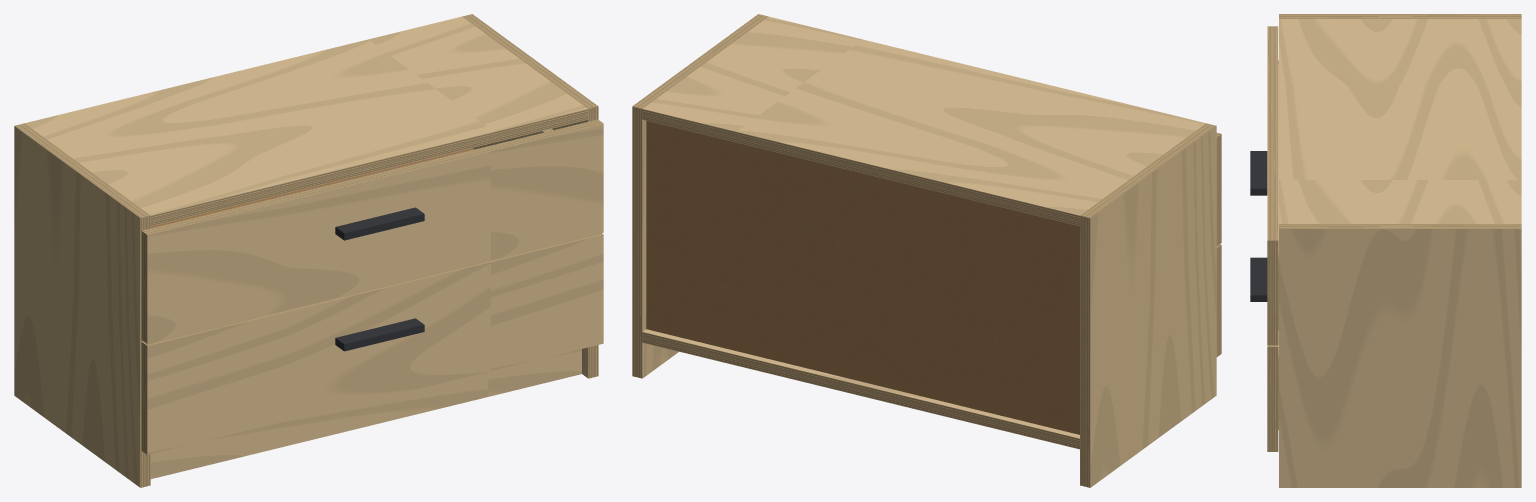
Rendered from SAB-KCT-std.glb.
3 views of the same model, side by side, from view 1: azimuth 30°, elevation 25°; view 2: azimuth 150°, elevation 25°; view 3: azimuth 270°, elevation 25° (orthographic). The views are drawn at different scales.
Parts seen in each view (by area): view 1: top:sheet:eyJtIjoicGx5Iiwic2lkZSI6ImZhY2UiLCJzZWVkIjo2LCJ2ZW, d1-front:sheet:eyJtIjoicGx5Iiwic2lkZSI6ImZhY2UiLCJzZWVkIjoyL, d2-front:sheet:eyJtIjoicGx5Iiwic2lkZSI6ImZhY2UiLCJzZWVkIjo2L, side-l:sheet:eyJtIjoicGx5Iiwic2lkZSI6ImZhY2UiLCJzZWVkIjoxLCJ, plinth:sheet:eyJtIjoicGx5Iiwic2lkZSI6ImZhY2UiLCJzZWVkIjozLCJ, top:sheet:eyJtIjoicGx5Iiwic2lkZSI6ImVkZ2UtbG9uZyIsInNlZWQiOj, d2-front:sheet:eyJtIjoicGx5Iiwic2lkZSI6ImVkZ2UtbG9uZyIsInNlZ, pull, side-l:sheet:eyJtIjoicGx5Iiwic2lkZSI6ImVkZ2UtZW5kIiwic2VlZCI, side-r:sheet:eyJtIjoicGx5Iiwic2lkZSI6ImVkZ2UtZW5kIiwic2VlZCI, d1-front:sheet:eyJtIjoicGx5Iiwic2lkZSI6ImVkZ2UtbG9uZyIsInNlZ, side-l:sheet:eyJtIjoicGx5Iiwic2lkZSI6ImVkZ2UtbG9uZyIsInNlZWQ (+3 smaller); view 2: back:sheet:eyJtIjoibWRmIiwic2lkZSI6ImZhY2UiLCJzZWVkIjo0LCJ0a, top:sheet:eyJtIjoicGx5Iiwic2lkZSI6ImZhY2UiLCJzZWVkIjo2LCJ2ZW, side-l:sheet:eyJtIjoicGx5Iiwic2lkZSI6ImZhY2UiLCJzZWVkIjoxLCJ, top:sheet:eyJtIjoicGx5Iiwic2lkZSI6ImVkZ2UtbG9uZyIsInNlZWQiOj, bottom:sheet:eyJtIjoicGx5Iiwic2lkZSI6ImVkZ2UtbG9uZyIsInNlZWQ, side-r:sheet:eyJtIjoicGx5Iiwic2lkZSI6ImVkZ2UtbG9uZyIsInNlZWQ, side-l:sheet:eyJtIjoicGx5Iiwic2lkZSI6ImVkZ2UtbG9uZyIsInNlZWQ, bottom:sheet:eyJtIjoicGx5Iiwic2lkZSI6ImZhY2UiLCJzZWVkIjowLCJ, side-r:sheet:eyJtIjoicGx5Iiwic2lkZSI6ImZhY2UiLCJzZWVkIjozLCJ, side-r:sheet:eyJtIjoicGx5Iiwic2lkZSI6ImVkZ2UtZW5kIiwic2VlZCI, side-l:sheet:eyJtIjoicGx5Iiwic2lkZSI6ImVkZ2UtZW5kIiwic2VlZCI, d2-front:sheet:eyJtIjoicGx5Iiwic2lkZSI6ImVkZ2UtZW5kIiwic2VlZ (+1 smaller); view 3: side-r:sheet:eyJtIjoicGx5Iiwic2lkZSI6ImZhY2UiLCJzZWVkIjozLCJ, top:sheet:eyJtIjoicGx5Iiwic2lkZSI6ImZhY2UiLCJzZWVkIjo2LCJ2ZW, d2-front:sheet:eyJtIjoicGx5Iiwic2lkZSI6ImVkZ2UtbG9uZyIsInNlZ, pull, d2-front:sheet:eyJtIjoicGx5Iiwic2lkZSI6ImVkZ2UtZW5kIiwic2VlZ, d1-front:sheet:eyJtIjoicGx5Iiwic2lkZSI6ImVkZ2UtZW5kIiwic2VlZ, side-l:sheet:eyJtIjoicGx5Iiwic2lkZSI6ImVkZ2UtZW5kIiwic2VlZCI, side-r:sheet:eyJtIjoicGx5Iiwic2lkZSI6ImVkZ2UtZW5kIiwic2VlZCI.
Part boxes in pixels (x1,y1,x2,y2): top:sheet:eyJtIjoicGx5Iiwic2lkZSI6ImZhY2UiLCJzZWVkIjo2LCJ2ZW: (25,16,587,215); d1-front:sheet:eyJtIjoicGx5Iiwic2lkZSI6ImZhY2UiLCJzZWVkIjoyL: (147,234,603,454); d2-front:sheet:eyJtIjoicGx5Iiwic2lkZSI6ImZhY2UiLCJzZWVkIjo2L: (147,123,603,343); side-l:sheet:eyJtIjoicGx5Iiwic2lkZSI6ImZhY2UiLCJzZWVkIjoxLCJ: (14,126,140,487); plinth:sheet:eyJtIjoicGx5Iiwic2lkZSI6ImZhY2UiLCJzZWVkIjozLCJ: (150,349,581,478); top:sheet:eyJtIjoicGx5Iiwic2lkZSI6ImVkZ2UtbG9uZyIsInNlZWQiOj: (150,109,588,226); d2-front:sheet:eyJtIjoicGx5Iiwic2lkZSI6ImVkZ2UtbG9uZyIsInNlZ: (142,119,603,234); pull: (335,207,424,351); side-l:sheet:eyJtIjoicGx5Iiwic2lkZSI6ImVkZ2UtZW5kIiwic2VlZCI: (14,123,150,217); side-r:sheet:eyJtIjoicGx5Iiwic2lkZSI6ImVkZ2UtZW5kIiwic2VlZCI: (462,14,598,108); d1-front:sheet:eyJtIjoicGx5Iiwic2lkZSI6ImVkZ2UtbG9uZyIsInNlZ: (142,233,603,345); side-l:sheet:eyJtIjoicGx5Iiwic2lkZSI6ImVkZ2UtbG9uZyIsInNlZWQ: (140,216,150,487); back:sheet:eyJtIjoibWRmIiwic2lkZSI6ImZhY2UiLCJzZWVkIjo0LCJ0a: (646,120,1079,434); top:sheet:eyJtIjoicGx5Iiwic2lkZSI6ImZhY2UiLCJzZWVkIjo2LCJ2ZW: (643,16,1205,215); side-l:sheet:eyJtIjoicGx5Iiwic2lkZSI6ImZhY2UiLCJzZWVkIjoxLCJ: (1090,126,1216,487); top:sheet:eyJtIjoicGx5Iiwic2lkZSI6ImVkZ2UtbG9uZyIsInNlZWQiOj: (642,109,1079,226); bottom:sheet:eyJtIjoicGx5Iiwic2lkZSI6ImVkZ2UtbG9uZyIsInNlZWQ: (642,332,1079,449); side-r:sheet:eyJtIjoicGx5Iiwic2lkZSI6ImVkZ2UtbG9uZyIsInNlZWQ: (632,106,642,378); side-l:sheet:eyJtIjoicGx5Iiwic2lkZSI6ImVkZ2UtbG9uZyIsInNlZWQ: (1080,215,1090,487); bottom:sheet:eyJtIjoicGx5Iiwic2lkZSI6ImZhY2UiLCJzZWVkIjowLCJ: (643,329,1079,438); side-r:sheet:eyJtIjoicGx5Iiwic2lkZSI6ImZhY2UiLCJzZWVkIjozLCJ: (642,119,678,378); side-r:sheet:eyJtIjoicGx5Iiwic2lkZSI6ImVkZ2UtZW5kIiwic2VlZCI: (632,14,768,108); side-l:sheet:eyJtIjoicGx5Iiwic2lkZSI6ImVkZ2UtZW5kIiwic2VlZCI: (1080,123,1216,218); d2-front:sheet:eyJtIjoicGx5Iiwic2lkZSI6ImVkZ2UtZW5kIiwic2VlZ: (1216,134,1221,246); side-r:sheet:eyJtIjoicGx5Iiwic2lkZSI6ImZhY2UiLCJzZWVkIjozLCJ: (1279,229,1521,487); top:sheet:eyJtIjoicGx5Iiwic2lkZSI6ImZhY2UiLCJzZWVkIjo2LCJ2ZW: (1279,19,1521,223); d2-front:sheet:eyJtIjoicGx5Iiwic2lkZSI6ImVkZ2UtbG9uZyIsInNlZ: (1267,26,1278,240); pull: (1250,151,1267,301); d2-front:sheet:eyJtIjoicGx5Iiwic2lkZSI6ImVkZ2UtZW5kIiwic2VlZ: (1267,240,1278,345); d1-front:sheet:eyJtIjoicGx5Iiwic2lkZSI6ImVkZ2UtZW5kIiwic2VlZ: (1267,347,1278,451); side-l:sheet:eyJtIjoicGx5Iiwic2lkZSI6ImVkZ2UtZW5kIiwic2VlZCI: (1279,14,1521,18); side-r:sheet:eyJtIjoicGx5Iiwic2lkZSI6ImVkZ2UtZW5kIiwic2VlZCI: (1279,224,1521,228).
Size of the model in its own units: 0.8 by 0.45 by 0.4267.
Materials: 55 (54 with a texture image).
